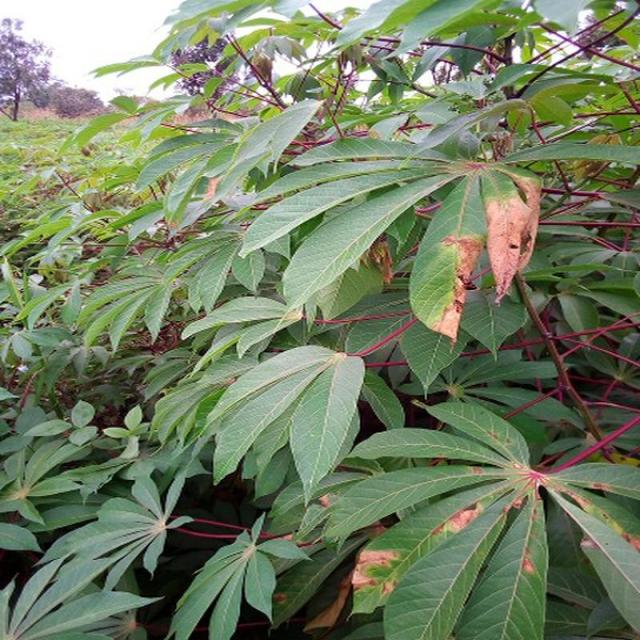cassava leaf: (3, 1, 638, 638), (204, 342, 365, 508)
